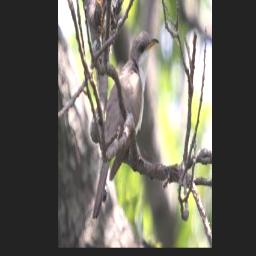Cuckoo: (93, 25, 160, 225)
